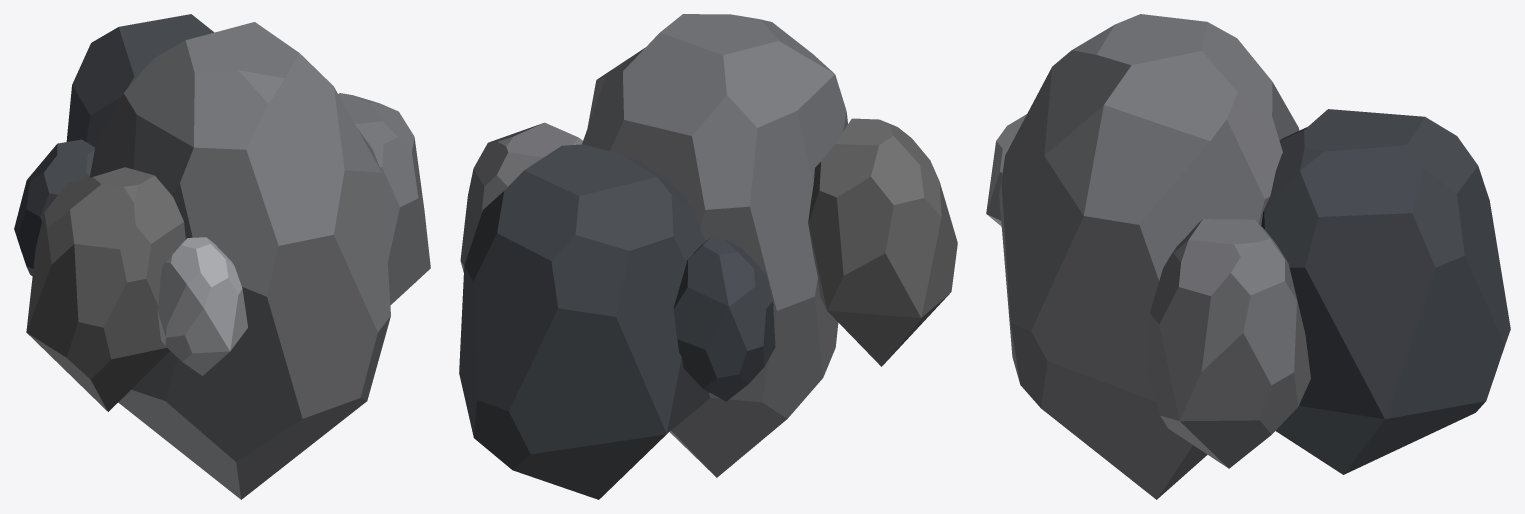
File: StonesAsset.fbx
3 renders of one model, left to right at view 1: azimuth 30°, elevation 25°; view 2: azimuth 150°, elevation 25°; view 3: azimuth 270°, elevation 25°, orthographic. The views are drawn at different scales.
Parts seen in each view (by area): view 1: Stones, Icosphere.001, Icosphere.002, Icosphere.004, Icosphere.003, Icosphere.005; view 2: Icosphere.003, Stones, Icosphere.001, Icosphere.005, Icosphere.004; view 3: Stones, Icosphere.003, Icosphere.004, Icosphere.002.
Boxes of the visible parts, x1,y1,x2,y2 form: Stones: (89, 22, 390, 499); Icosphere.001: (26, 167, 185, 411); Icosphere.002: (157, 237, 247, 375); Icosphere.004: (338, 93, 430, 305); Icosphere.003: (66, 14, 214, 147); Icosphere.005: (14, 139, 94, 276); Icosphere.003: (459, 144, 709, 499); Stones: (582, 14, 847, 477); Icosphere.001: (808, 118, 957, 366); Icosphere.005: (673, 236, 775, 401); Icosphere.004: (460, 122, 582, 272); Stones: (999, 14, 1299, 499); Icosphere.003: (1261, 109, 1510, 474); Icosphere.004: (1147, 219, 1310, 468); Icosphere.002: (986, 114, 1026, 226).
Size of the model in its own units: 350 by 364 by 371.
